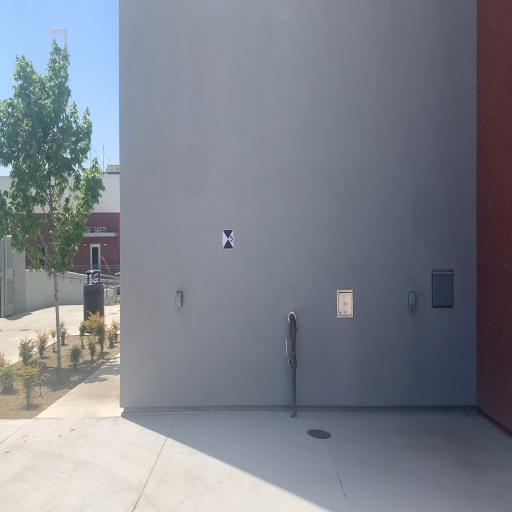target5: (223, 229, 234, 250)
